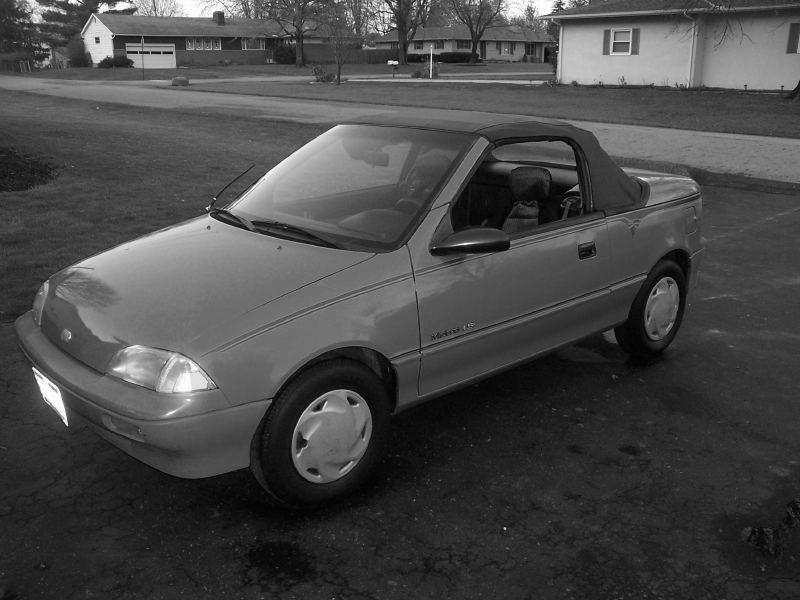car: (18, 114, 704, 498)
